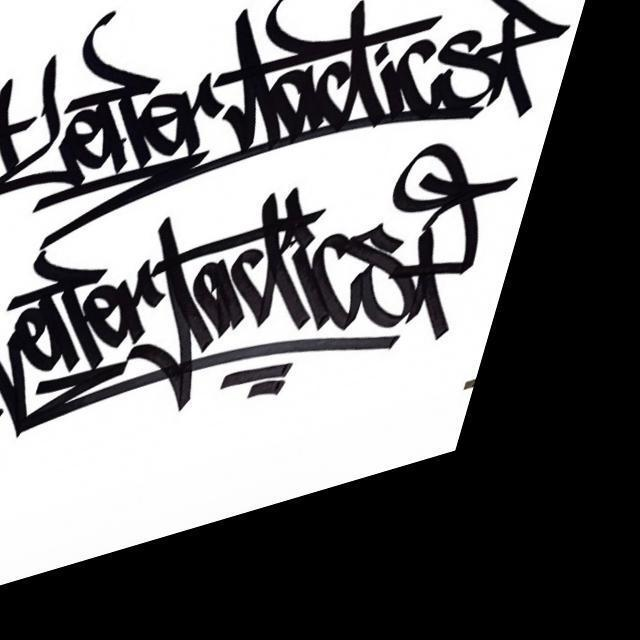nonspitting: (0, 0, 568, 435)
